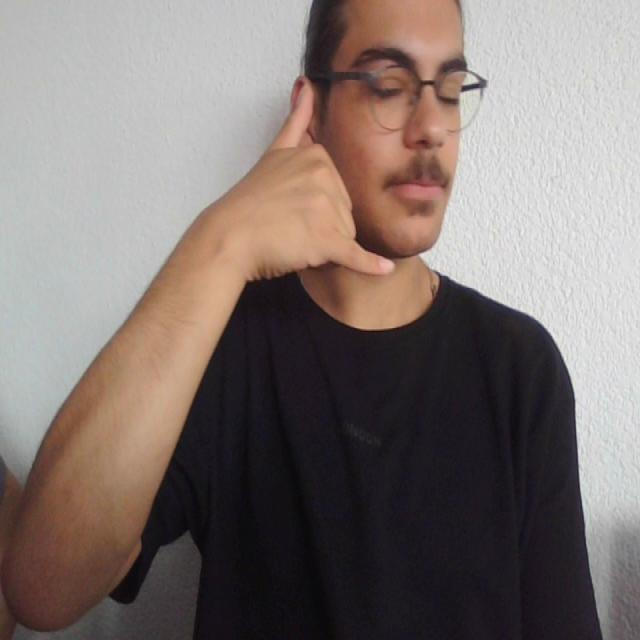Telefon: (260, 72, 399, 287)
